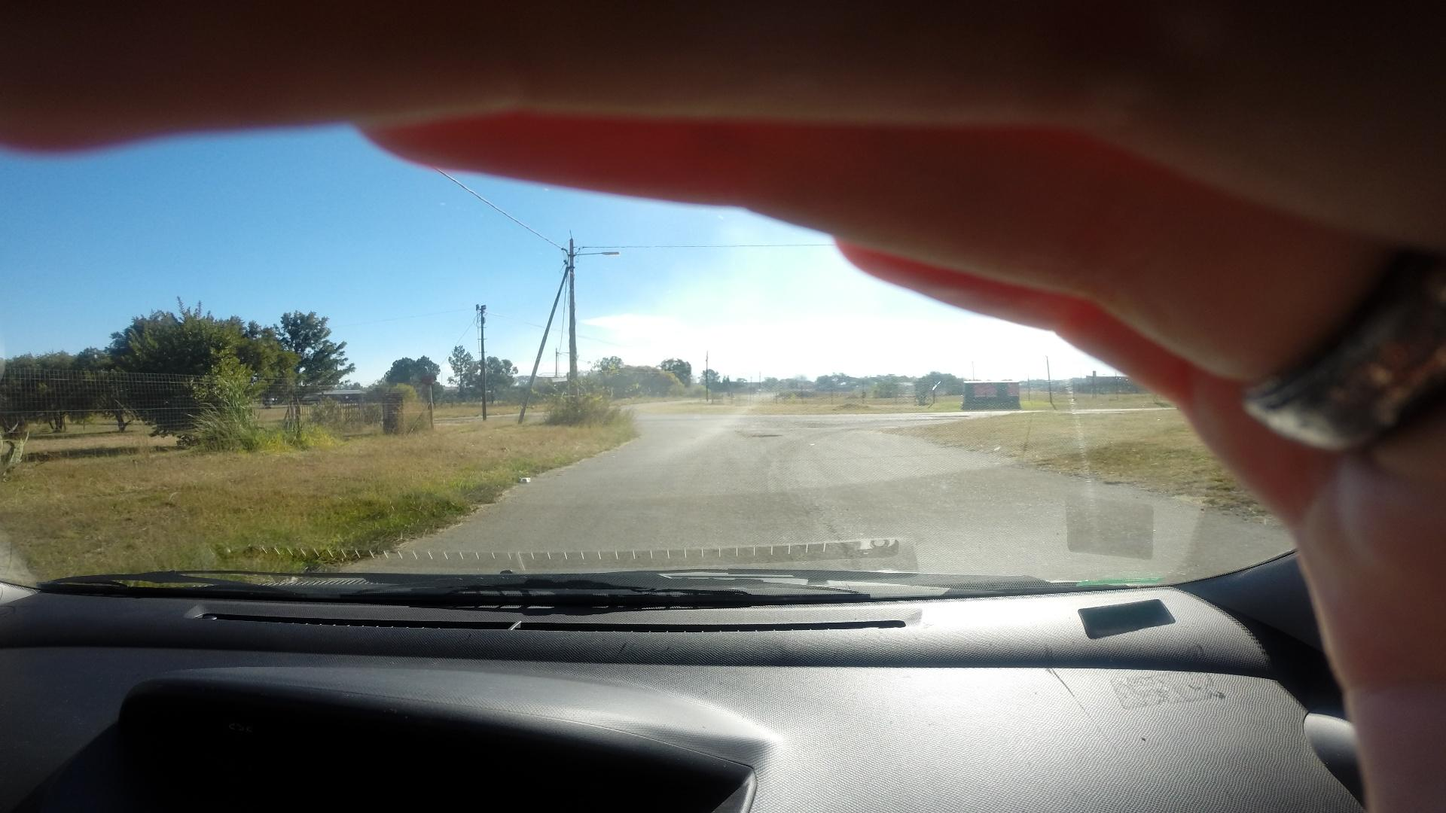pothole: (751, 433, 783, 438)
